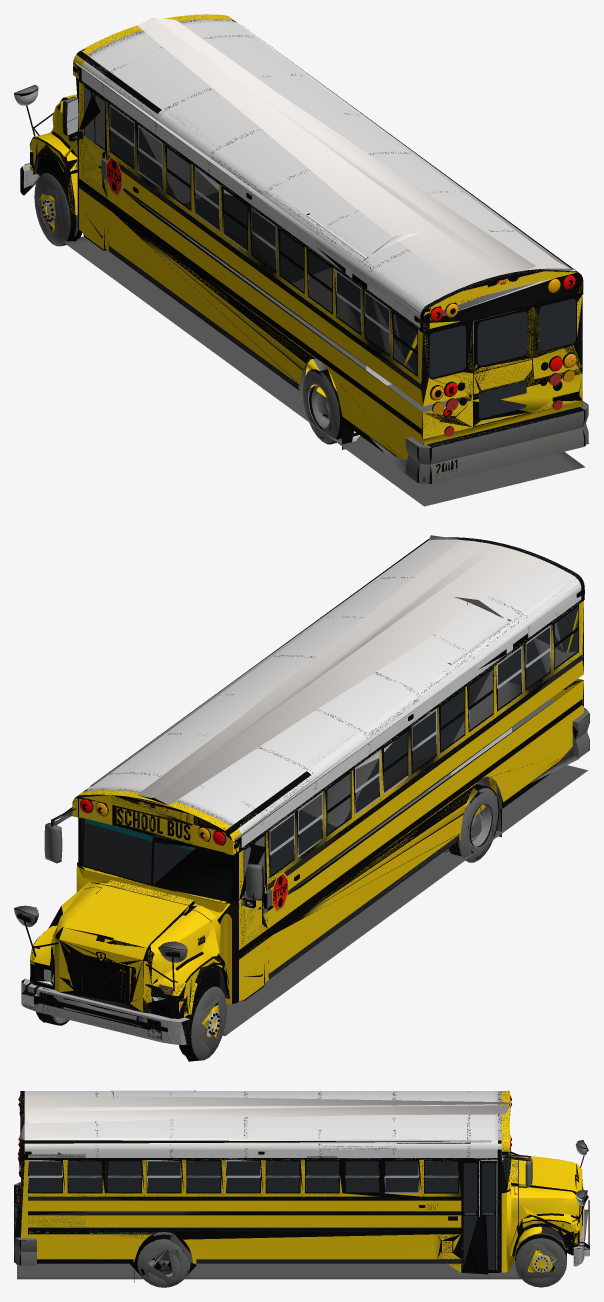
Rendered from schoolbus_npc.glb.
3 views of the same model, one above another, from view 1: azimuth 30°, elevation 25°; view 2: azimuth 150°, elevation 25°; view 3: azimuth 270°, elevation 25° (orthographic). The views are drawn at different scales.
Visible parts, largest first — view 1: body, far_body, glass, wheel_RL, wheel_FL; view 2: body, far_body, glass, wheel_RL, wheel_FL; view 3: body, far_body, glass, wheel_FR, wheel_RR.
Boxes of the visible parts, bbox=[...] form: body: bbox=[14, 14, 588, 506]; far_body: bbox=[30, 17, 589, 481]; glass: bbox=[110, 106, 575, 418]; wheel_RL: bbox=[302, 369, 341, 444]; wheel_FL: bbox=[34, 173, 82, 245]; body: bbox=[14, 537, 589, 1045]; far_body: bbox=[22, 535, 584, 1061]; glass: bbox=[82, 608, 578, 884]; wheel_RL: bbox=[444, 784, 499, 862]; wheel_FL: bbox=[179, 987, 226, 1059]; body: bbox=[14, 1090, 589, 1282]; far_body: bbox=[16, 1090, 589, 1287]; glass: bbox=[29, 1158, 510, 1269]; wheel_FR: bbox=[515, 1233, 566, 1287]; wheel_RR: bbox=[137, 1234, 190, 1287].
Size of the model in its own units: 2.93 by 3.24 by 10.79.
3 materials, 1 textured.
